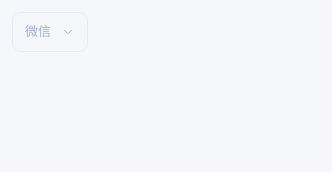
Test case: custom select › obeys explicit and inherited fieldset disabled states
The width and height of the screenshot is (332, 172).
Press ArrowDown in the dropdown labelled "微信", box [12, 12, 88, 52]
Click the dropdown labelled "微信" at [50, 32], box [12, 12, 88, 52]
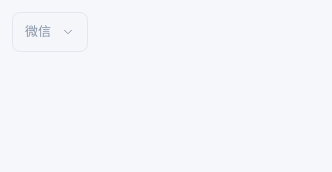
Expected: the dropdown labelled "微信" is disabled, [12, 12, 88, 52]
